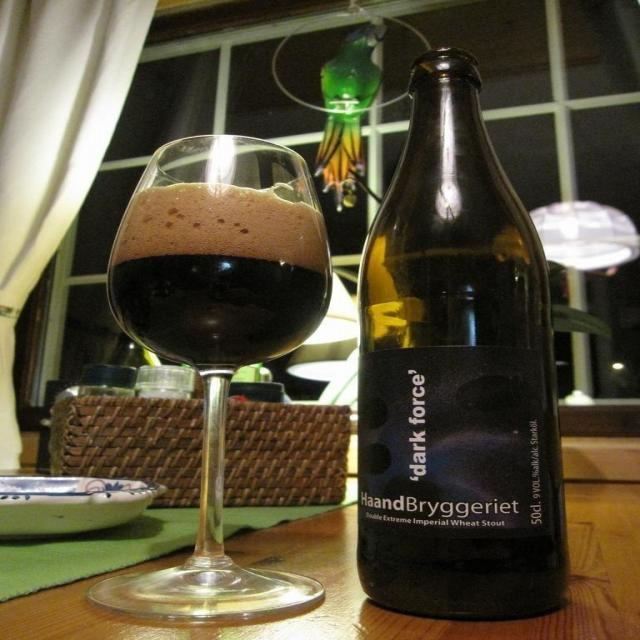bottle-glass: (353, 48, 576, 621)
glass-wine: (89, 133, 337, 619)
